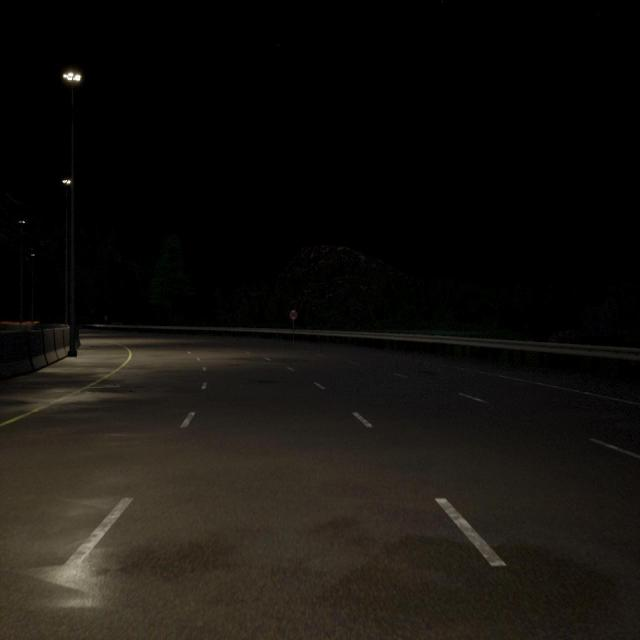Traffic_Signs: (290, 310, 297, 320)
